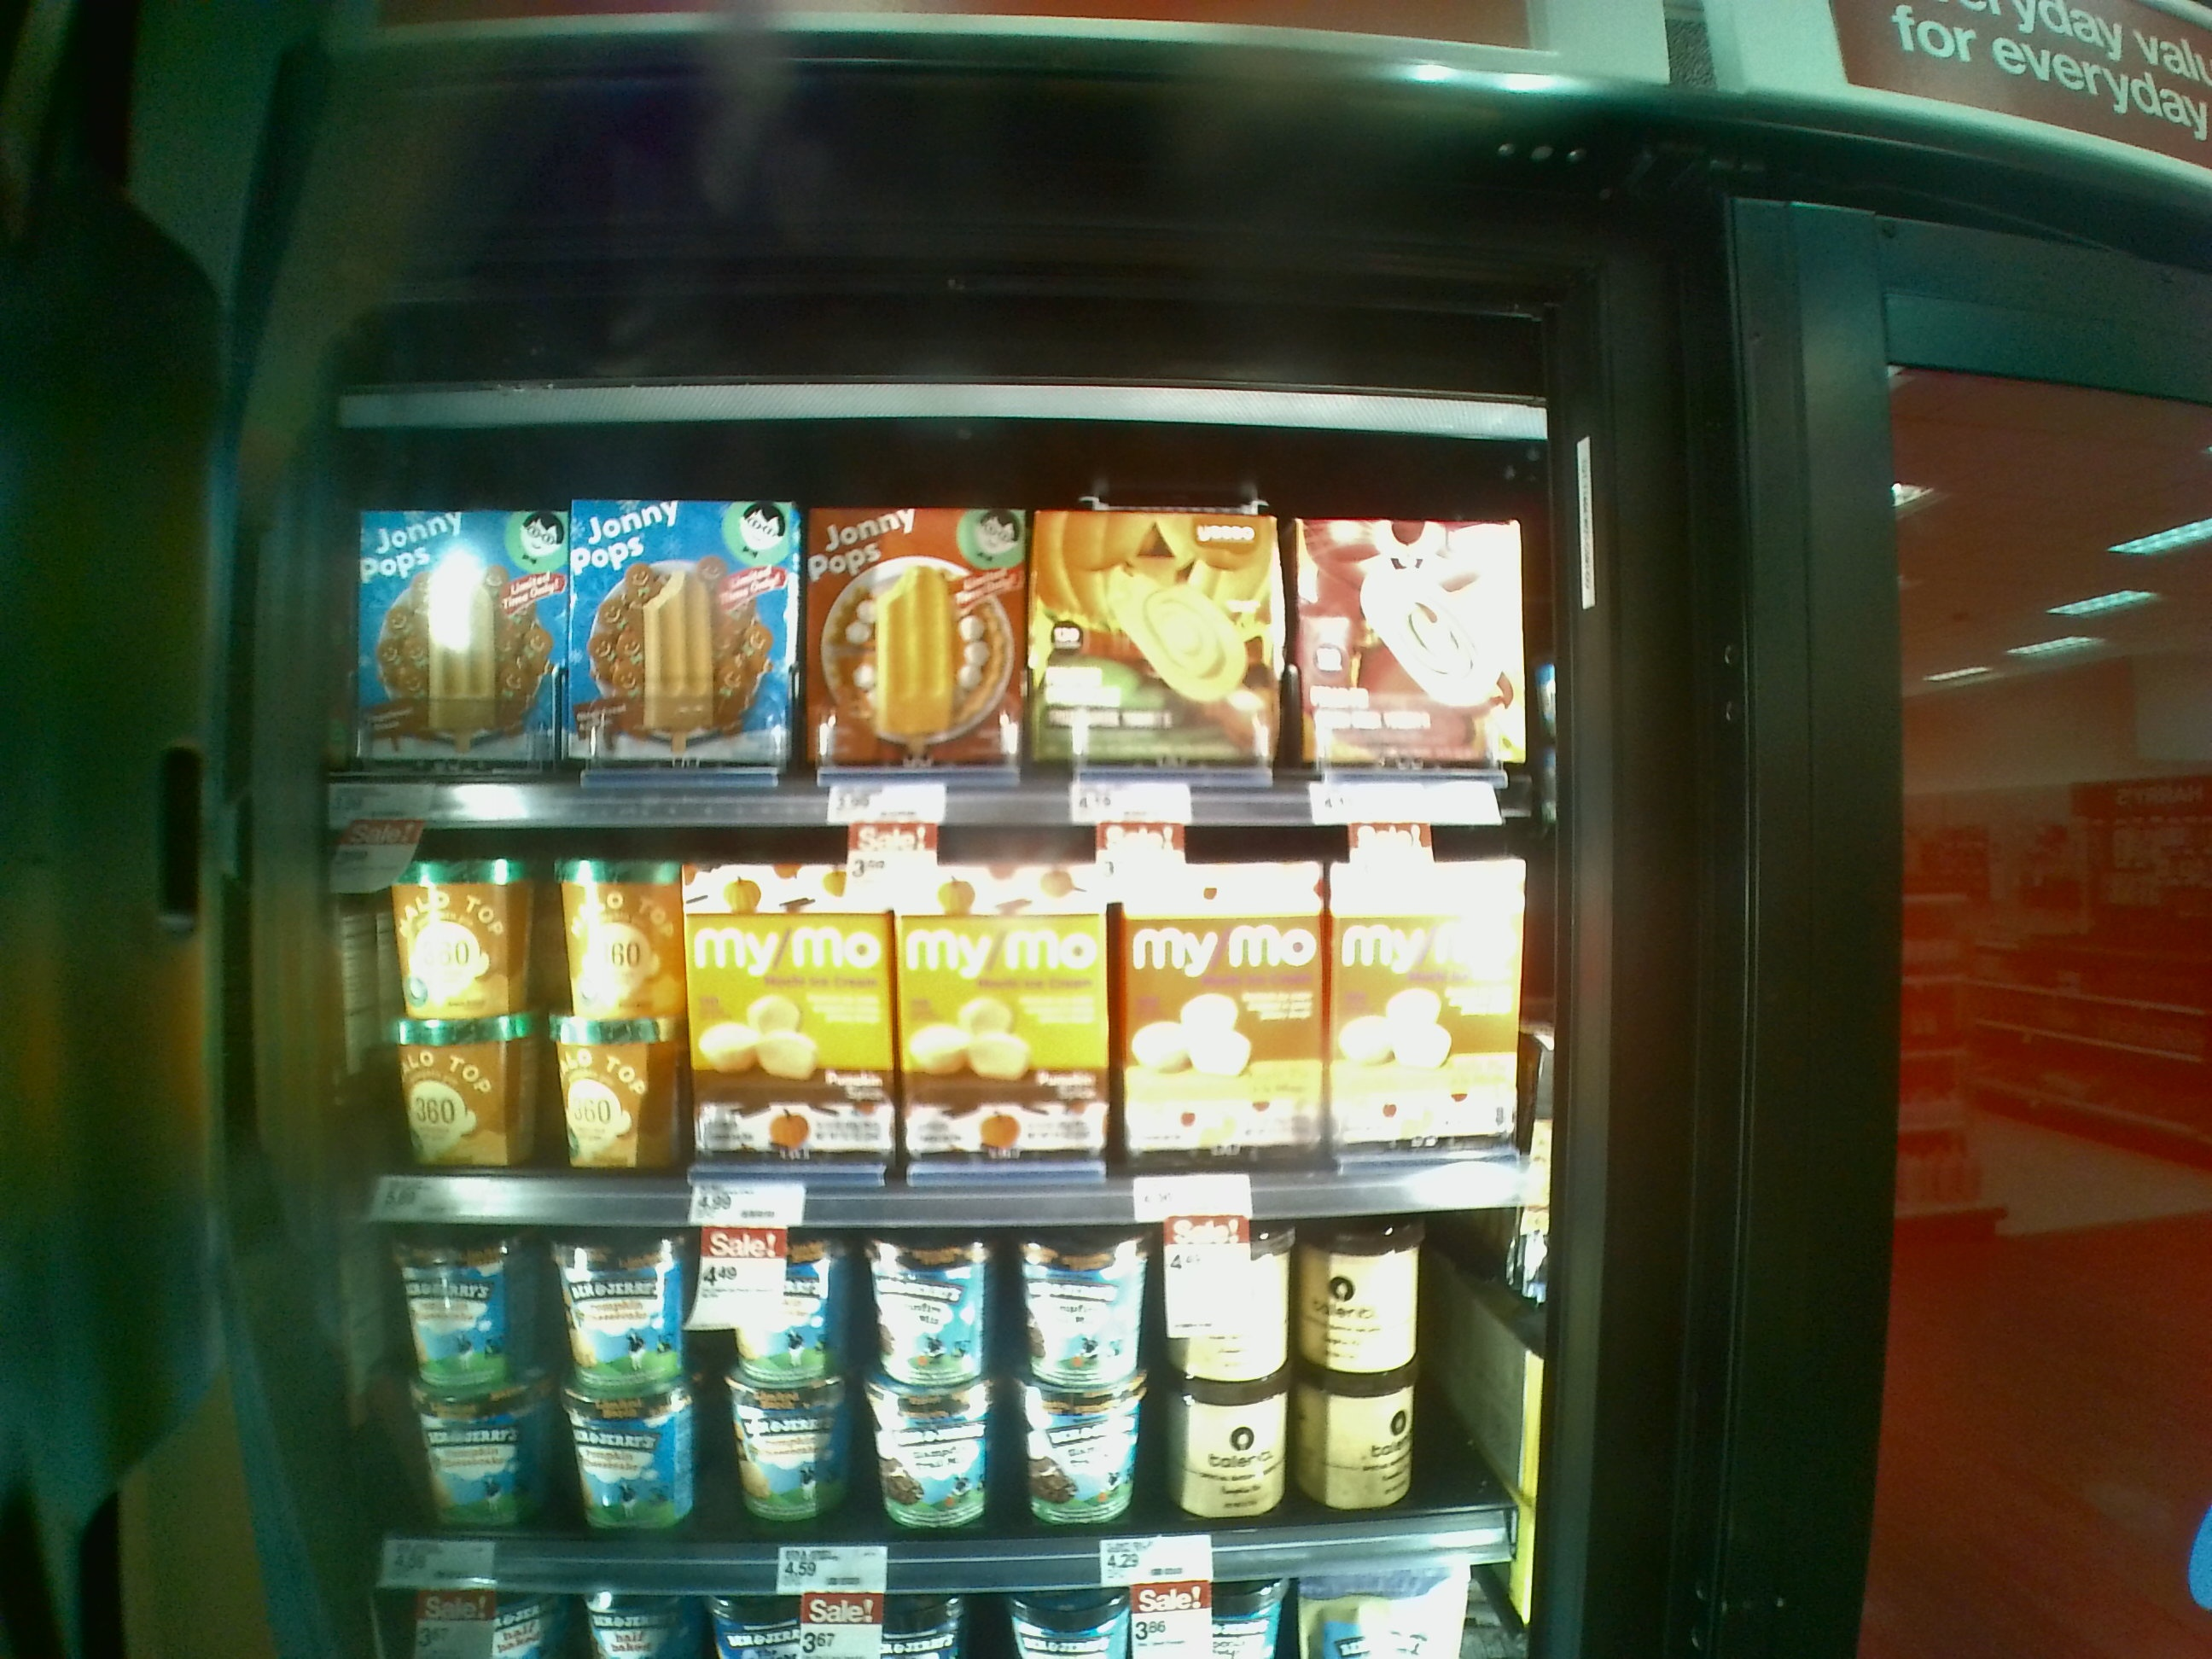shelf: (317, 779, 1545, 1195), (314, 416, 1545, 807), (312, 1182, 1529, 1560)
